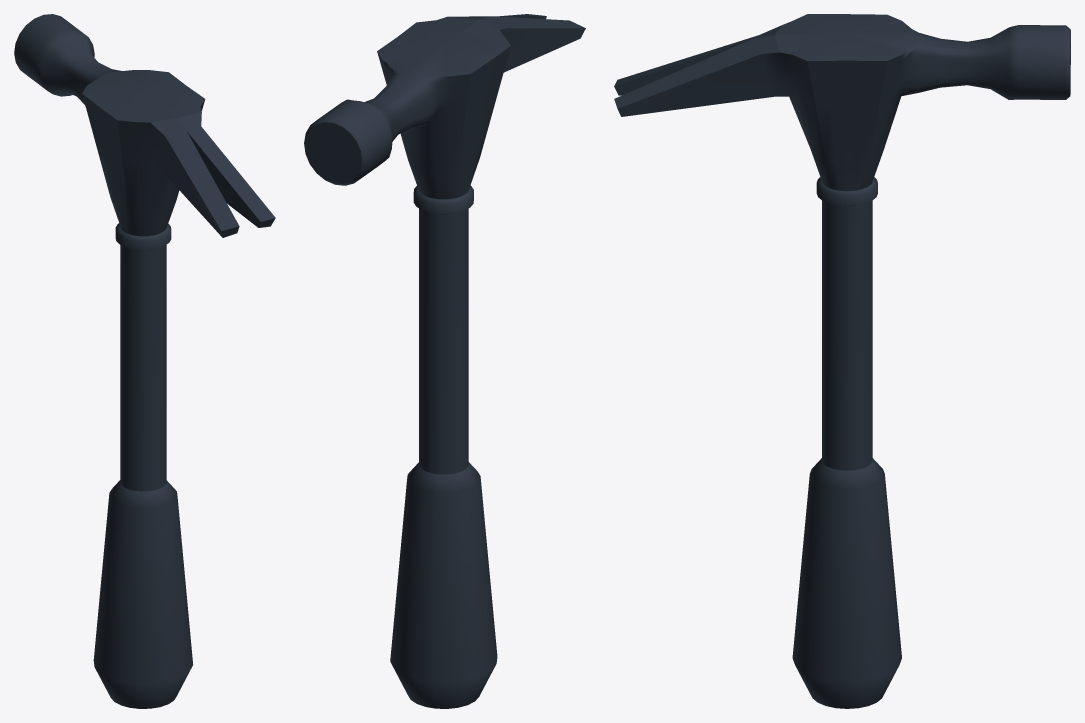
Rendered from Additive_Hammer_Mesh.obj.
3 renders of one model, left to right at view 1: azimuth 30°, elevation 25°; view 2: azimuth 150°, elevation 25°; view 3: azimuth 270°, elevation 25°, orthographic. The views are drawn at different scales.
Visible parts, largest first — view 1: pCylinder5; view 2: pCylinder5; view 3: pCylinder5.
Part boxes in pixels (left/top/right/bottom): pCylinder5: left=14, top=14, right=275, bottom=708; pCylinder5: left=304, top=14, right=585, bottom=708; pCylinder5: left=614, top=14, right=1070, bottom=708.
Bounding box in the file's own units: 2.97 × 19.55 × 12.17.
